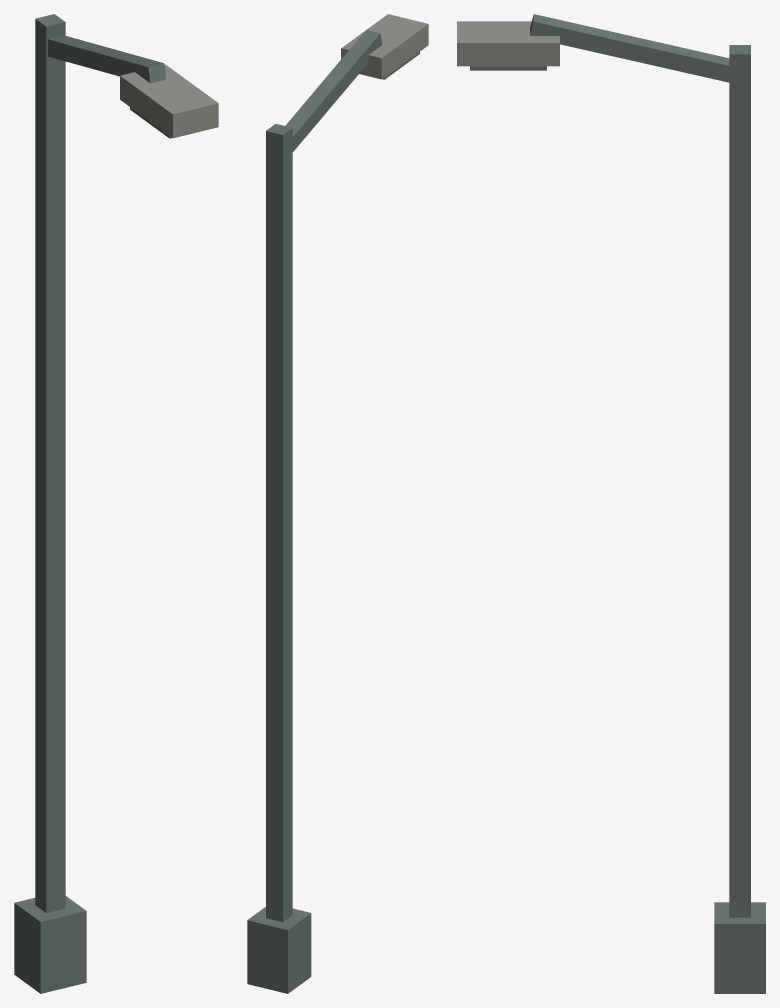
File: SM_Farola_v1_LOD0.fbx
The picture shows the model from 3 angles, left to right: view 1: azimuth 30°, elevation 25°; view 2: azimuth 150°, elevation 25°; view 3: azimuth 270°, elevation 25°; orthographic projection. The views are drawn at different scales.
Parts seen in each view (by area): view 1: SM_urbano_v6_LOD0; view 2: SM_urbano_v6_LOD0; view 3: SM_urbano_v6_LOD0.
Boxes of the visible parts, x1,y1,x2,y2 form: SM_urbano_v6_LOD0: (14, 14, 218, 993); SM_urbano_v6_LOD0: (247, 14, 428, 993); SM_urbano_v6_LOD0: (457, 14, 765, 993).
Bounding box in the file's own units: 0.4 × 8.27 × 2.4.
